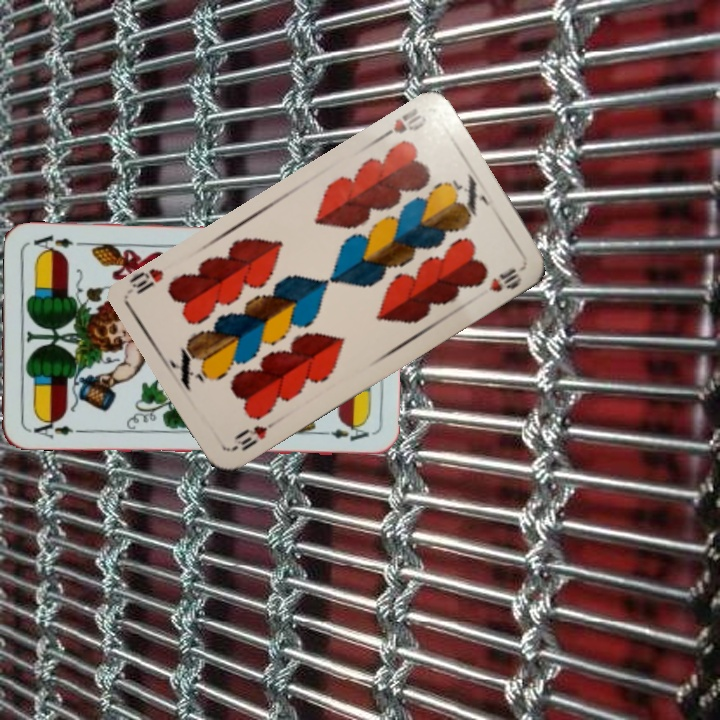EA: (24, 414, 83, 442)
H10: (375, 103, 429, 143), (227, 416, 279, 455)
